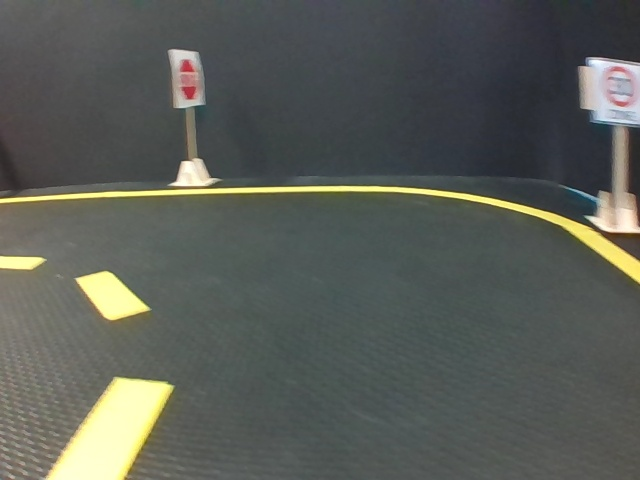30: (588, 58, 639, 123)
stop: (170, 49, 204, 105)
